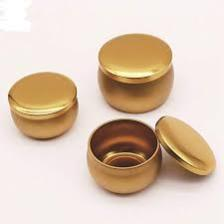metal: (86, 32, 190, 114), (6, 62, 85, 146), (90, 117, 160, 194), (156, 111, 220, 175)
